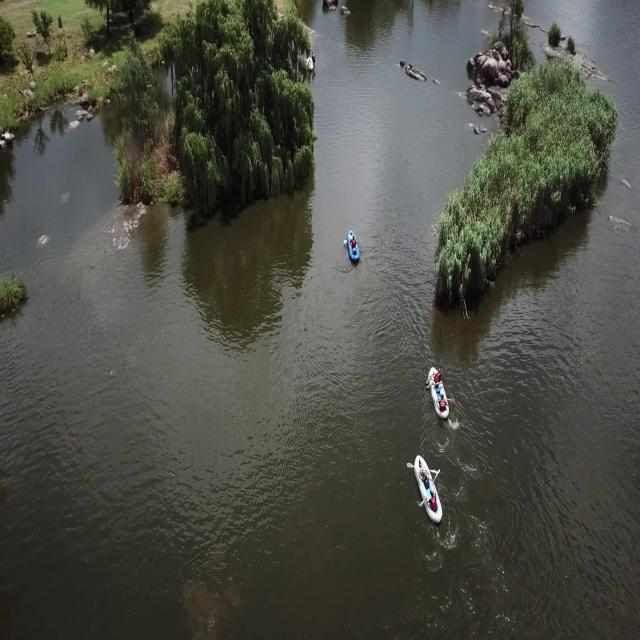kayak: (407, 450, 452, 528), (426, 366, 451, 421), (346, 230, 361, 267)
